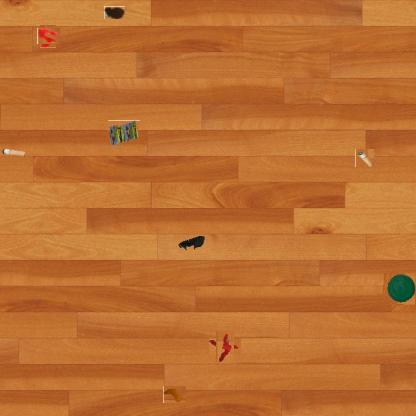dirty: (384, 274, 416, 306), (108, 120, 140, 145), (212, 334, 237, 358), (178, 234, 206, 254), (163, 386, 186, 404), (356, 149, 374, 168), (1, 148, 27, 158)
liquid: (39, 27, 58, 46), (104, 6, 125, 19)
